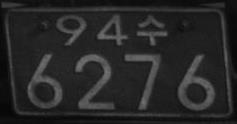2: (75, 52, 116, 110)
4: (97, 14, 127, 46)
6: (176, 53, 216, 112), (27, 53, 63, 110)
7: (123, 52, 161, 110)
9: (55, 12, 87, 46)
수: (136, 14, 166, 46)
